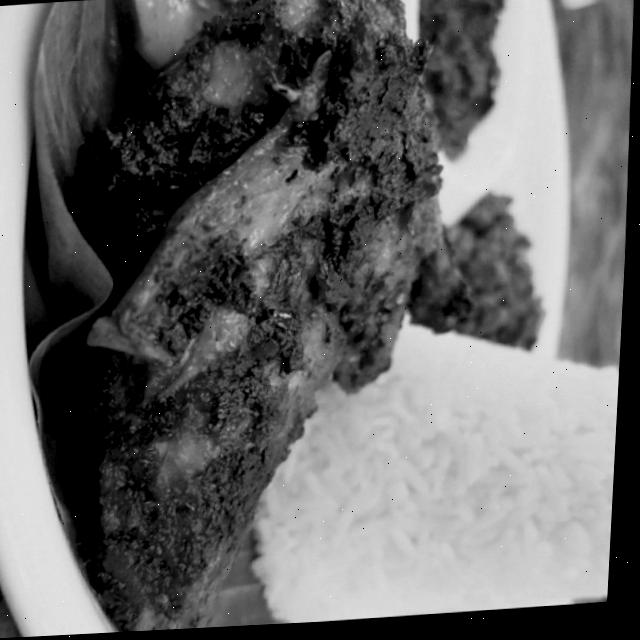鸡肉料理 含炸鸡: (25, 0, 573, 602)
